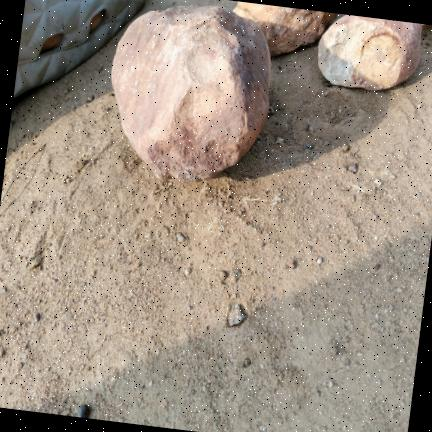Rocks: (112, 6, 271, 181), (319, 15, 421, 90), (234, 2, 336, 56), (229, 305, 246, 326), (77, 405, 90, 417), (234, 268, 242, 282), (219, 270, 228, 282), (177, 233, 186, 243), (348, 163, 357, 173), (35, 312, 41, 323), (0, 287, 6, 298)
